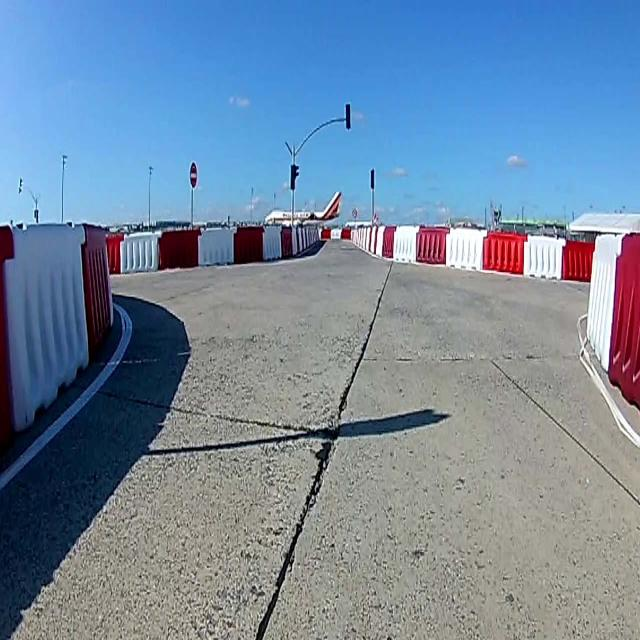girisyok: (189, 160, 199, 189)
